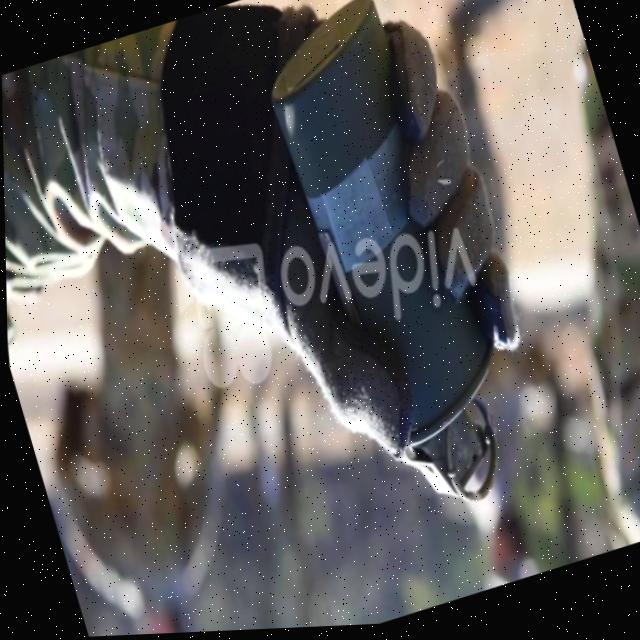grenade: (167, 0, 604, 562)
